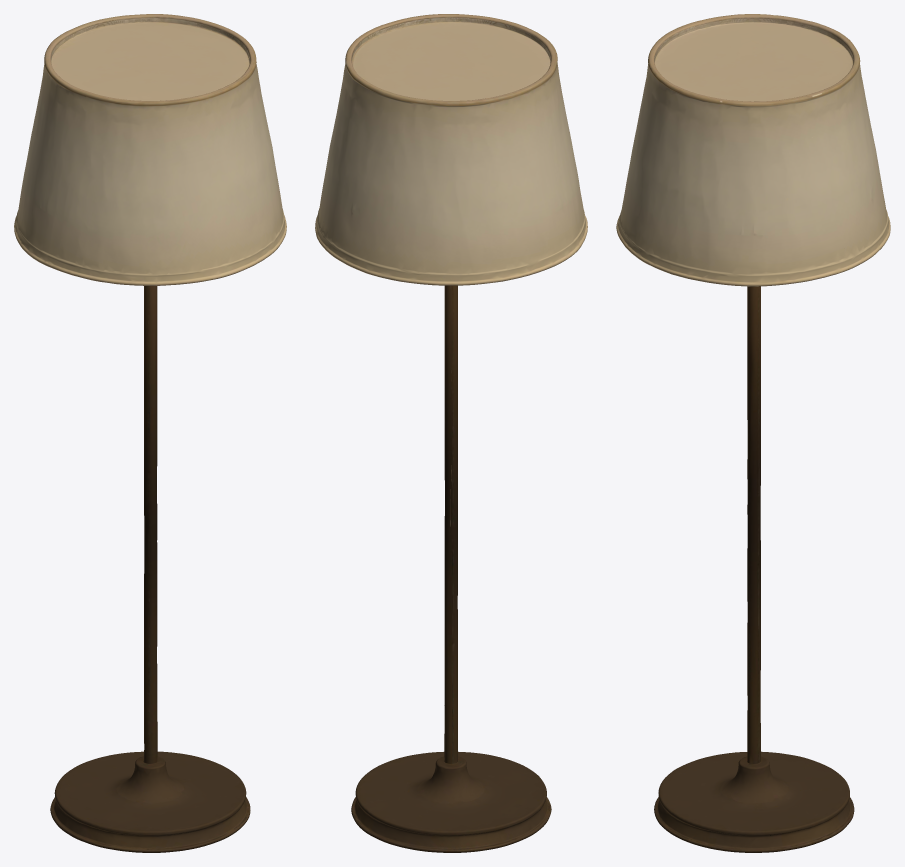
File: floor-lamp.glb
The picture shows the model from 3 angles, left to right: view 1: azimuth 30°, elevation 25°; view 2: azimuth 150°, elevation 25°; view 3: azimuth 270°, elevation 25°; orthographic projection.
Visible parts, largest first — view 1: tripo_node_02becde1-d5b6-4a25-817a-29e396bc424e; view 2: tripo_node_02becde1-d5b6-4a25-817a-29e396bc424e; view 3: tripo_node_02becde1-d5b6-4a25-817a-29e396bc424e.
Boxes of the visible parts, x1,y1,x2,y2 form: tripo_node_02becde1-d5b6-4a25-817a-29e396bc424e: (14, 14, 286, 852); tripo_node_02becde1-d5b6-4a25-817a-29e396bc424e: (315, 14, 587, 852); tripo_node_02becde1-d5b6-4a25-817a-29e396bc424e: (616, 14, 890, 852).
Size of the model in its own units: 0.3981 by 1.2 by 0.3961.
1 material, 1 textured.
